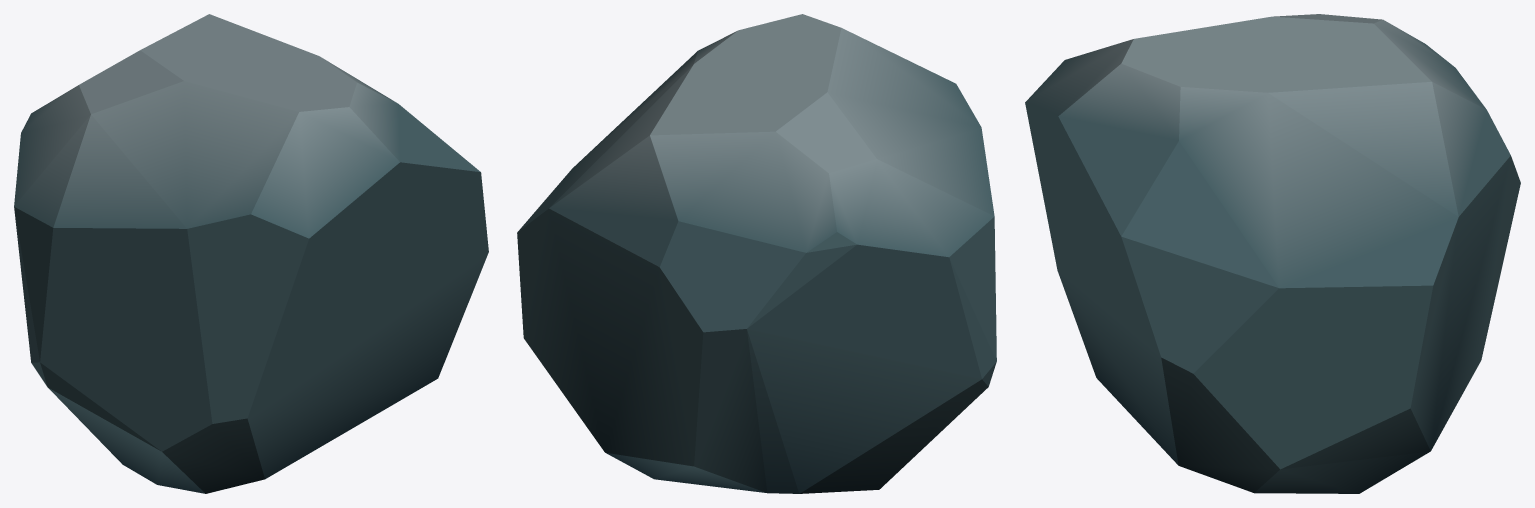
The model's file is Rock 2.fbx.
3 renders of one model, left to right at view 1: azimuth 30°, elevation 25°; view 2: azimuth 150°, elevation 25°; view 3: azimuth 270°, elevation 25°, orthographic. The views are drawn at different scales.
Parts seen in each view (by area): view 1: Rock 2; view 2: Rock 2; view 3: Rock 2.
Boxes of the visible parts, x1,y1,x2,y2 form: Rock 2: (14,14,488,493); Rock 2: (517,14,996,493); Rock 2: (1025,14,1520,493).
Bounding box in the file's own units: 184 × 166 × 178.
